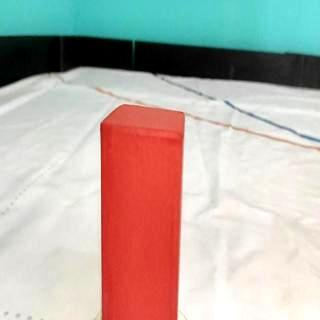redbox: (100, 102, 186, 320)
